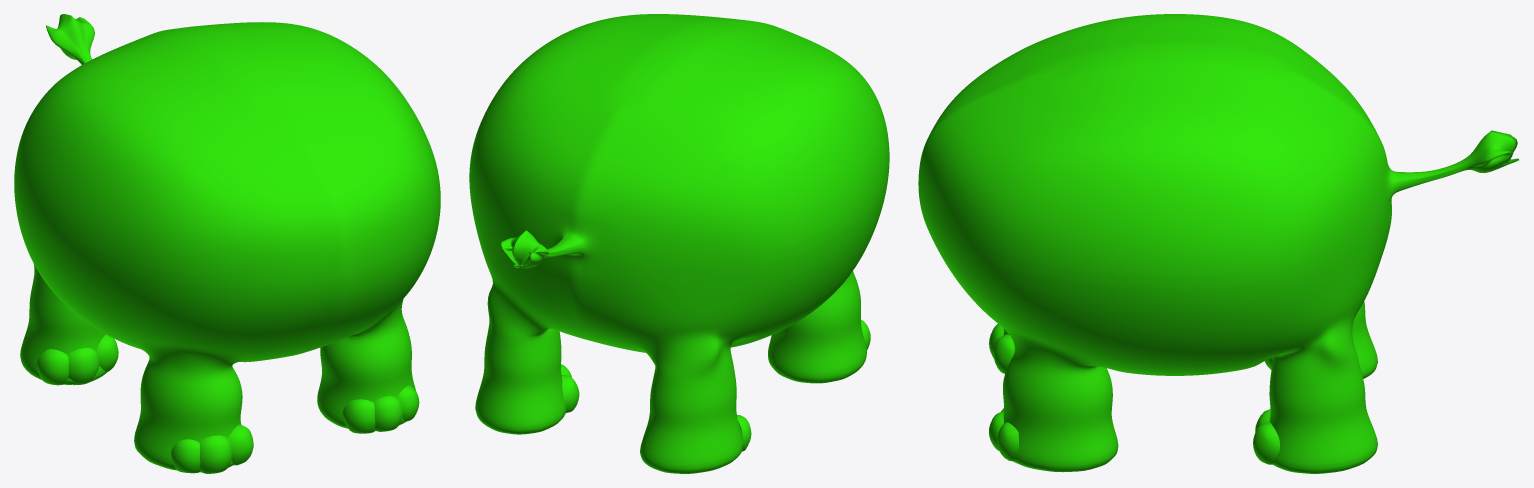
Rendered from zone4-rhino-green.gltf.
3 renders of one model, left to right at view 1: azimuth 30°, elevation 25°; view 2: azimuth 150°, elevation 25°; view 3: azimuth 270°, elevation 25°, orthographic. The views are drawn at different scales.
Parts seen in each view (by area): view 1: Coprs-Pates; view 2: Coprs-Pates; view 3: Coprs-Pates.
Part boxes in pixels (left/top/right/bottom): Coprs-Pates: left=14, top=14, right=440, bottom=473; Coprs-Pates: left=469, top=14, right=889, bottom=473; Coprs-Pates: left=918, top=14, right=1519, bottom=473.
Size of the model in its own units: 2.61 by 2.43 by 3.66.
